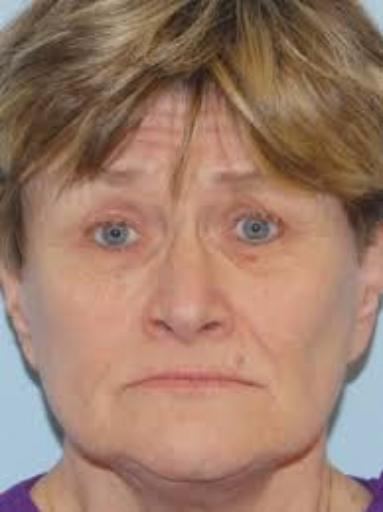left_eye: (223, 214, 289, 248)
left_lip_corner: (247, 376, 268, 396)
right_eye: (85, 218, 147, 251)
right_lip_corner: (110, 374, 141, 396)
